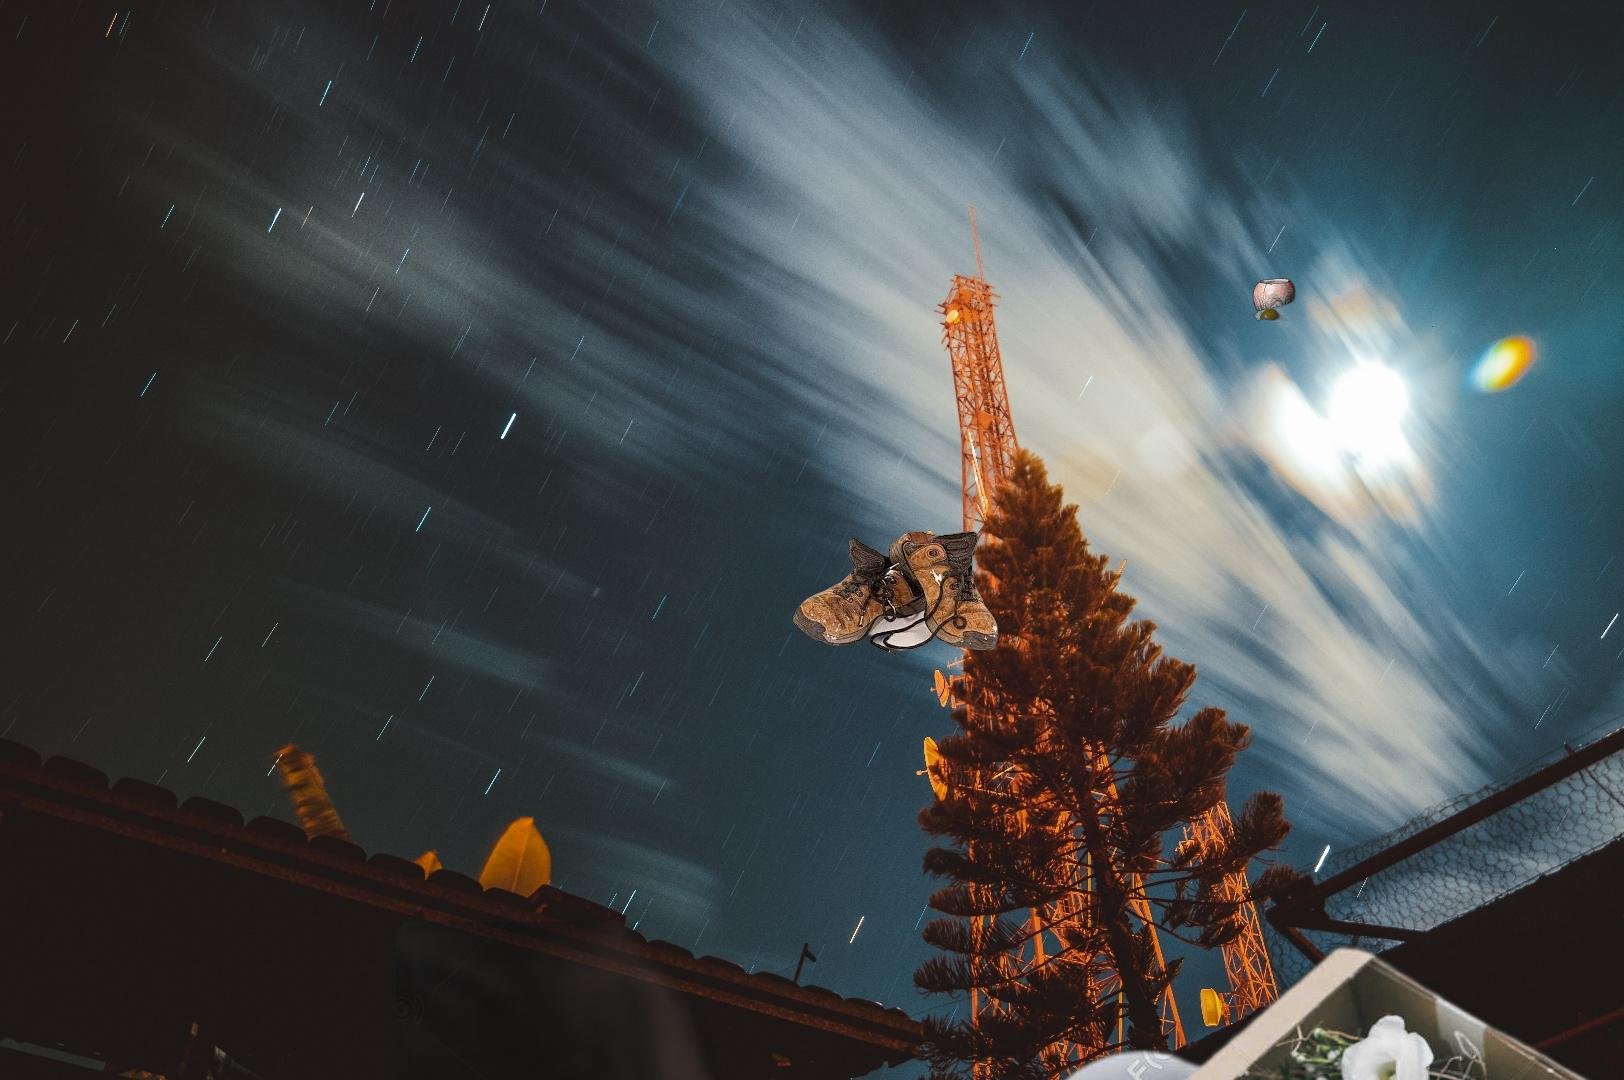biological: (1179, 241, 1336, 350)
shoes: (790, 528, 1002, 661)
trashbox-cardboard: (396, 922, 1624, 1080)
